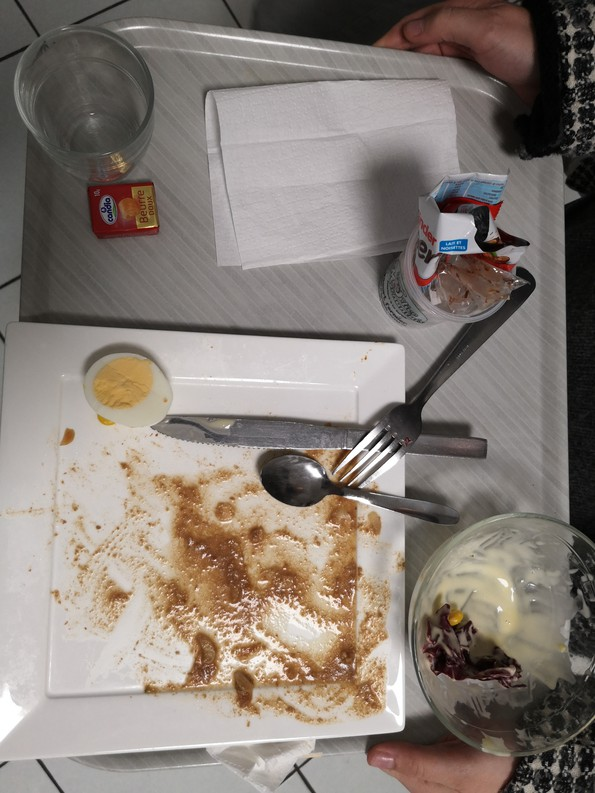orga: (426, 590, 563, 701), (76, 340, 186, 443)
trash: (194, 63, 469, 275), (382, 160, 533, 343), (84, 186, 166, 241)
